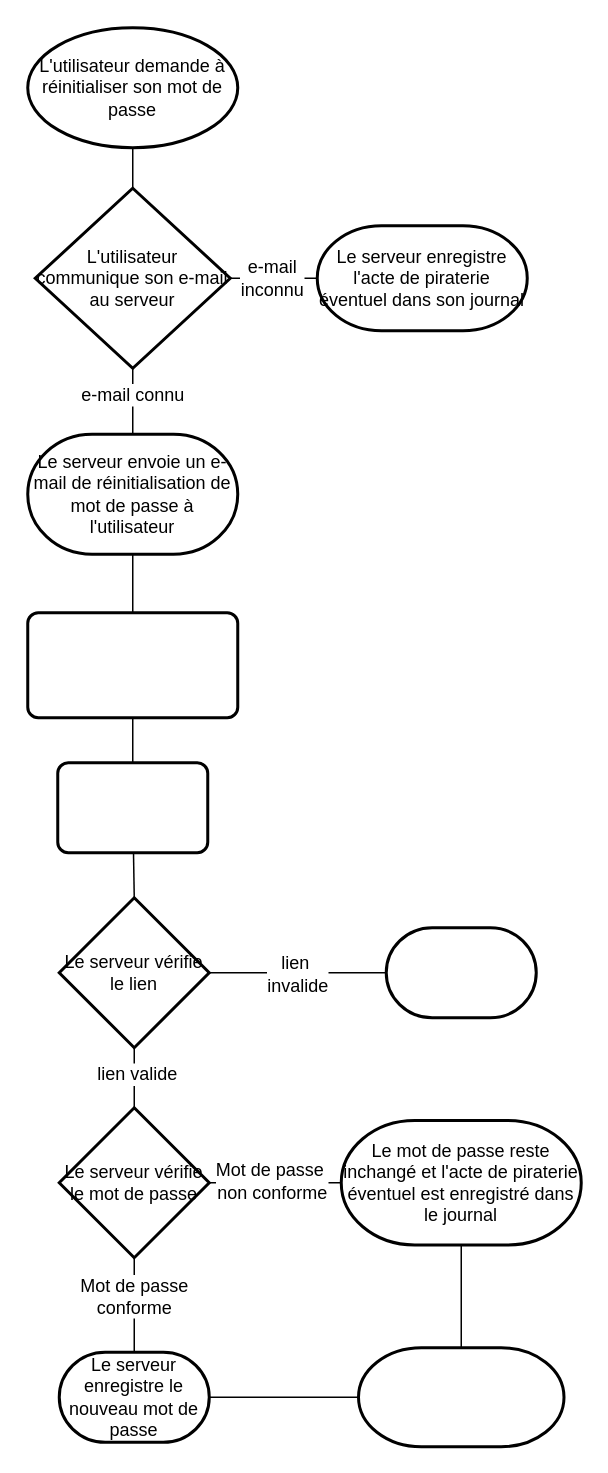
Image size: 608x1473. Some labels were removed from this diagram. Each missing label, with the box of its shape:
L'utilisateur envoie son mot de passe au serveur: (56, 760, 208, 854)
L'utilisateur suit le lien de confirmation de réinitialisation de mot de passe: (26, 610, 238, 718)
Le lien de confirmation de réinitialisation de mot de passe est invalidé: (356, 1346, 565, 1448)
Le mot de passe reste inchangé: (384, 926, 537, 1018)
